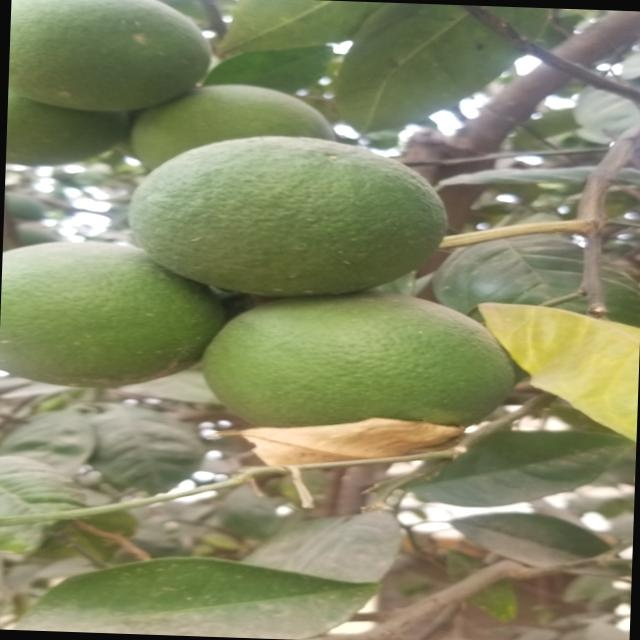agrume: (105, 122, 470, 318), (198, 293, 507, 465), (0, 232, 175, 398), (7, 0, 227, 120)
